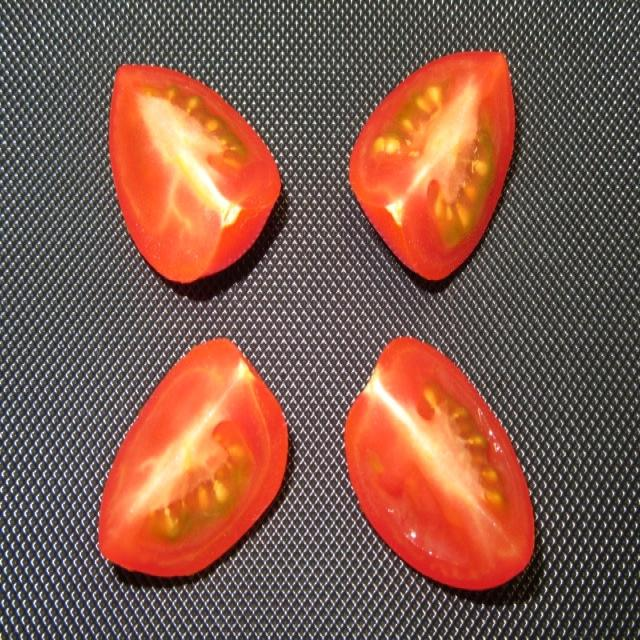Tomato: (85, 330, 298, 588), (342, 330, 542, 600), (102, 56, 287, 292), (344, 42, 520, 290)
